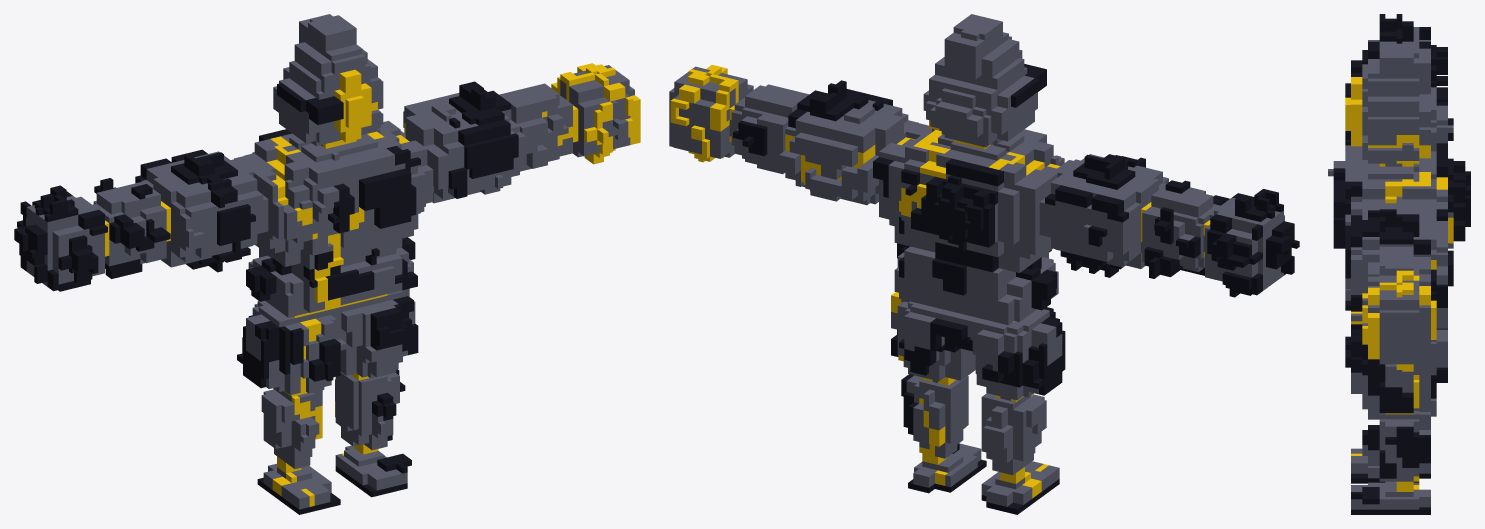
The model's file is monster_gold_golem.glb.
3 renders of one model, left to right at view 1: azimuth 30°, elevation 25°; view 2: azimuth 150°, elevation 25°; view 3: azimuth 270°, elevation 25°, orthographic. The views are drawn at different scales.
Visible parts, largest first — view 1: monster_gold_golem; view 2: monster_gold_golem; view 3: monster_gold_golem.
Part boxes in pixels (x1,y1,x2,y2): monster_gold_golem: (14,14,640,514); monster_gold_golem: (669,14,1299,514); monster_gold_golem: (1328,14,1470,514).
Bounding box in the file's own units: 11.7 × 8.5 × 2.5.
1 material, 1 textured.
